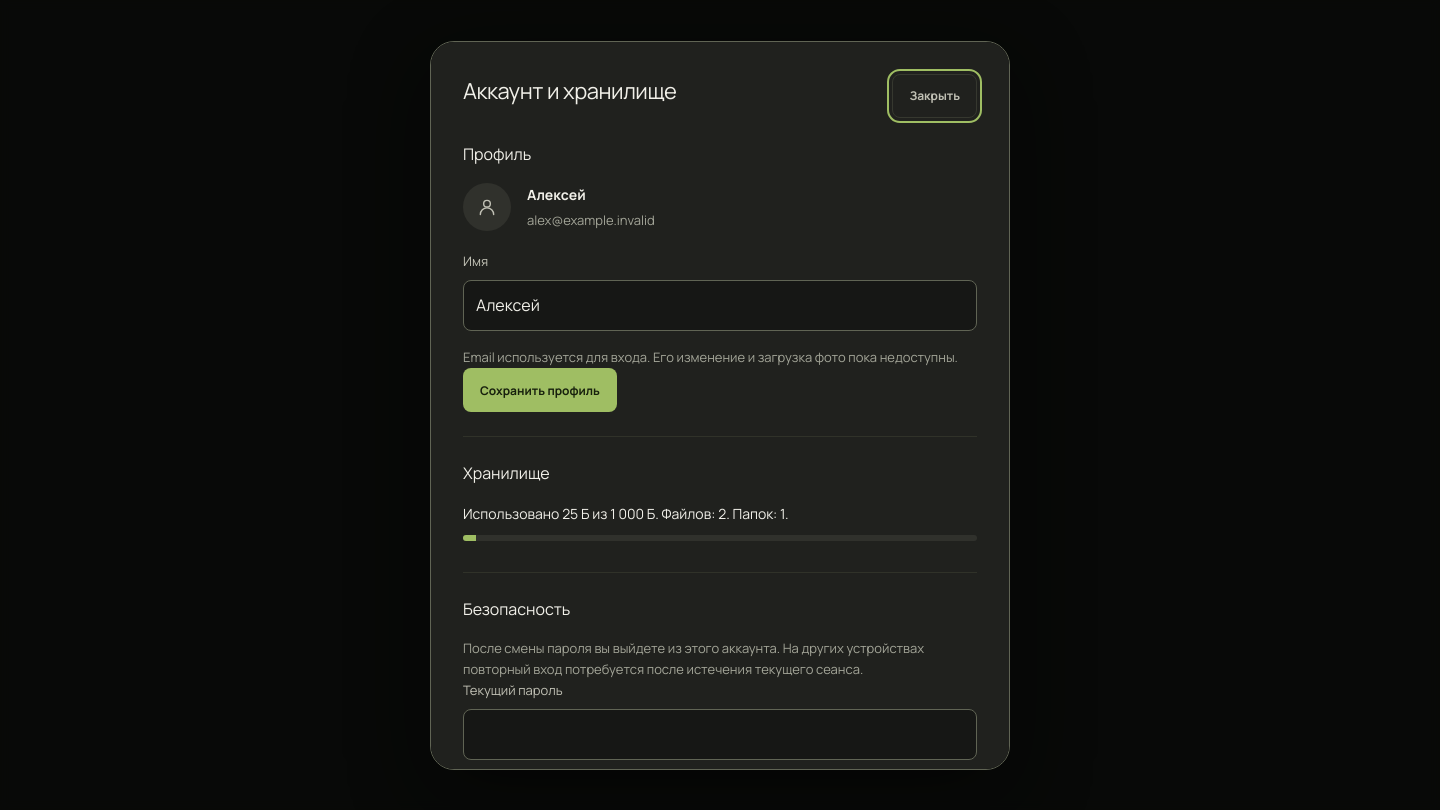
it: AccountDialog › rejects mismatched new passwords without mutation
The width and height of the screenshot is (1440, 810).
Type "old" into the password field labelled "Текущий пароль".
click(720, 734); type("old")  # box [463, 709, 977, 760]
(page scrolled)
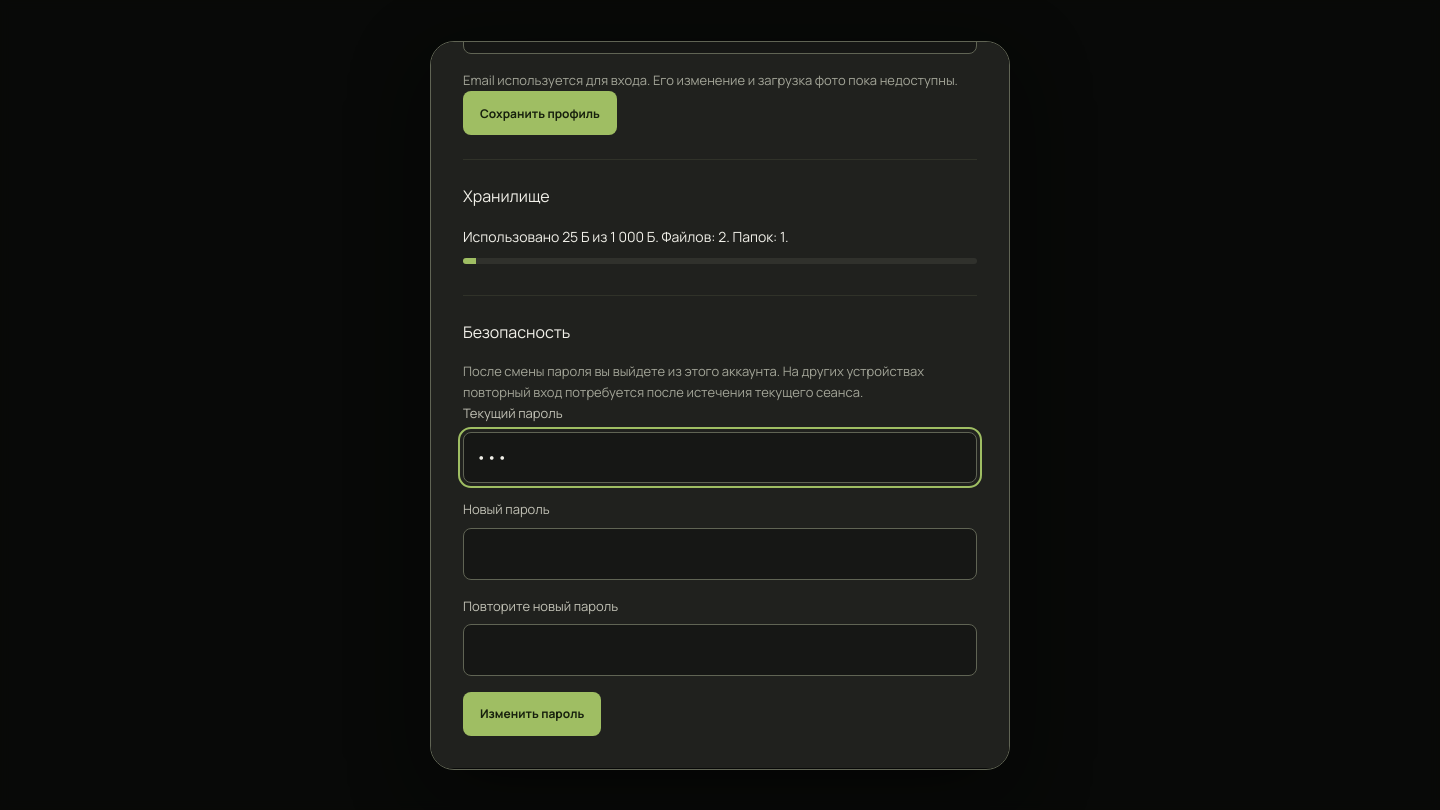
Type "newpassword" into the password field labelled "Новый пароль".
click(720, 554); type("newpassword")  # box [463, 528, 977, 580]
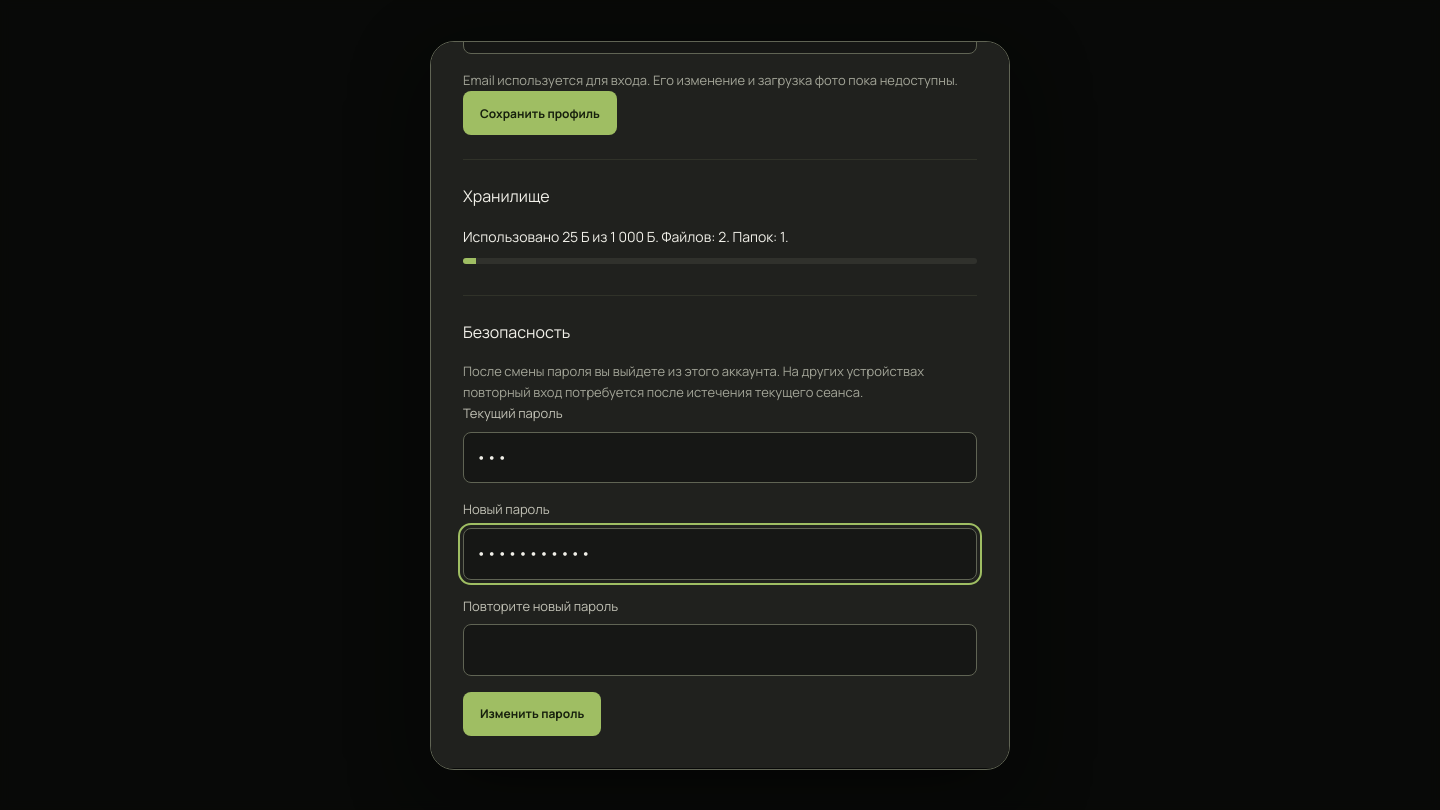
Type "otherpass" into the password field labelled "Повторите новый пароль".
click(720, 650); type("otherpass")  # box [463, 624, 977, 676]
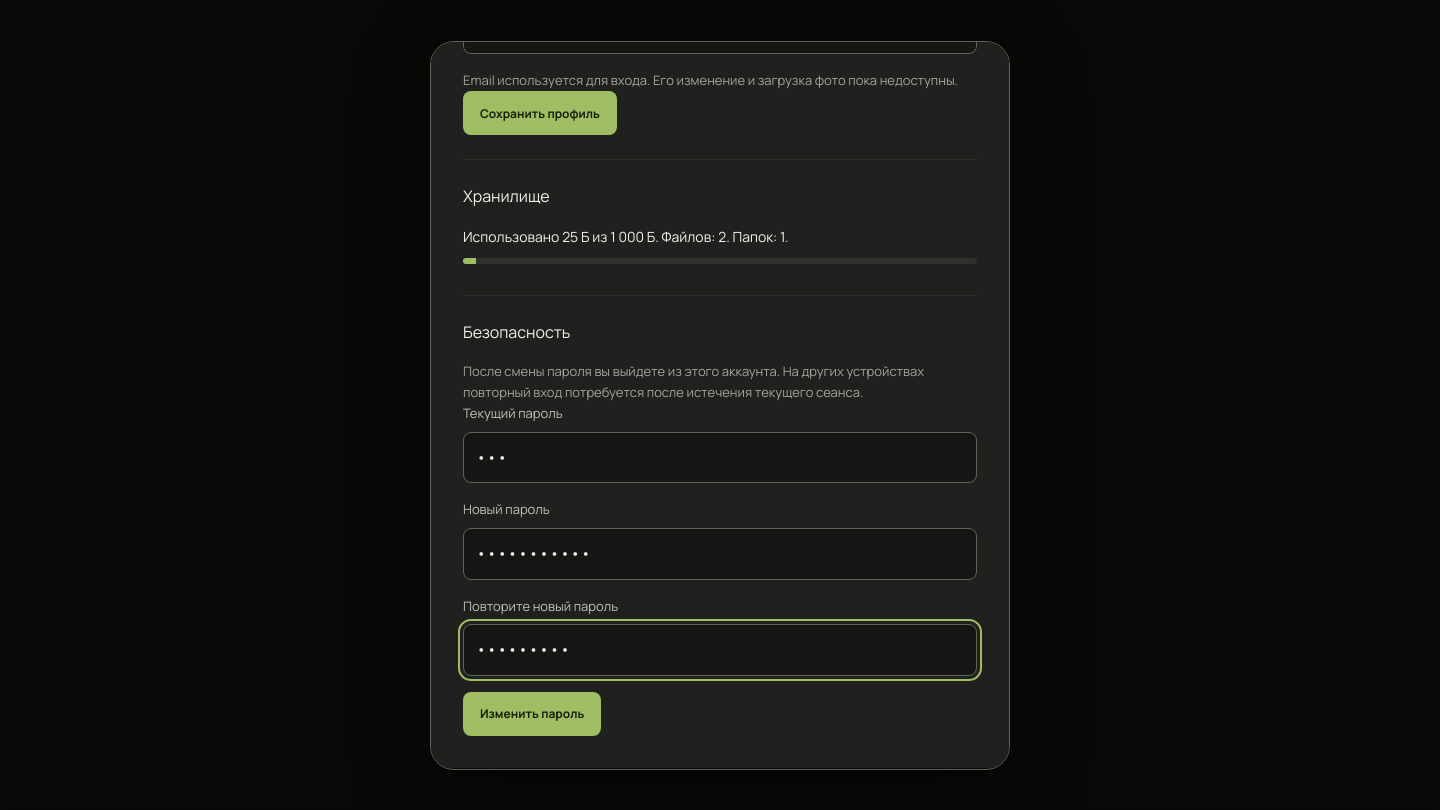
Click the button "Изменить пароль".
click(532, 714)  # box [463, 692, 601, 736]
(page scrolled)
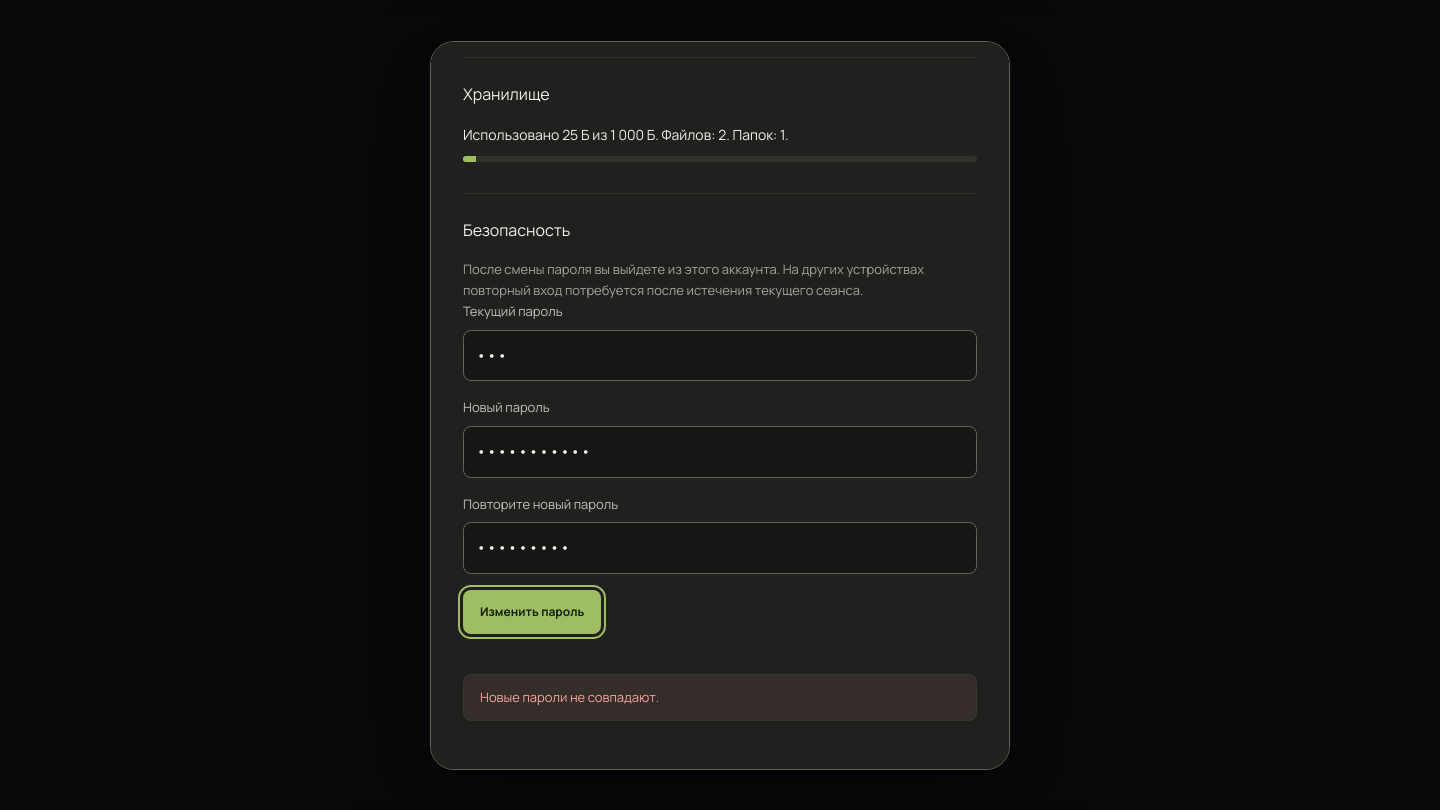
expect the message reads "Новые пароли не совпадают.": met, box [480, 688, 659, 706]
